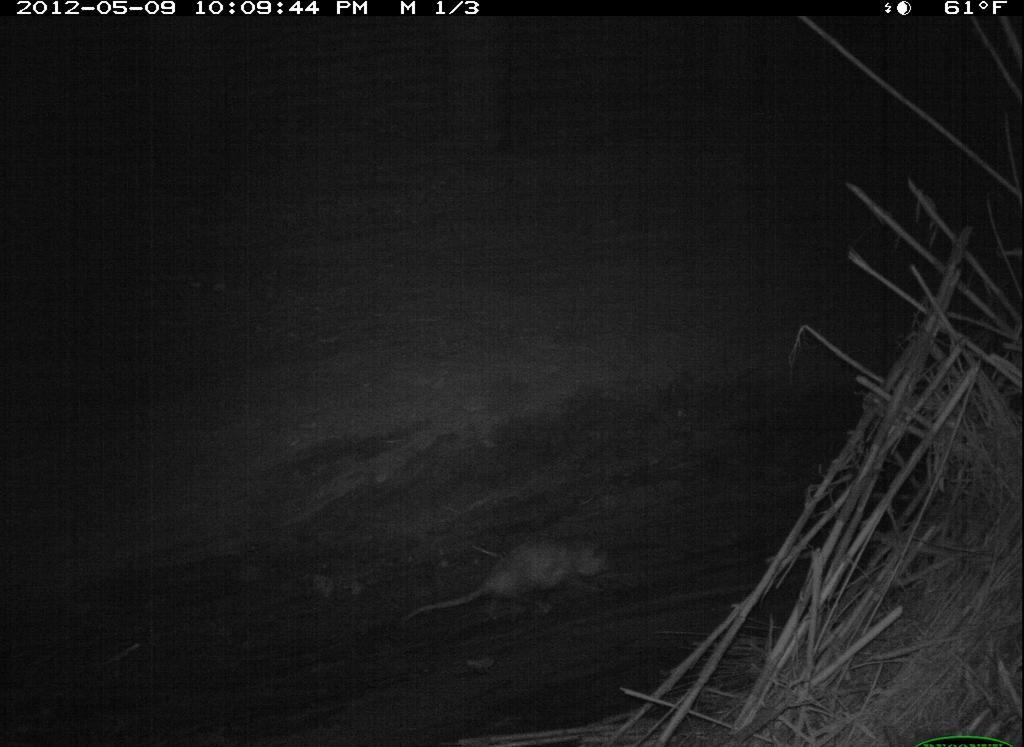opossum: (395, 530, 638, 629)
